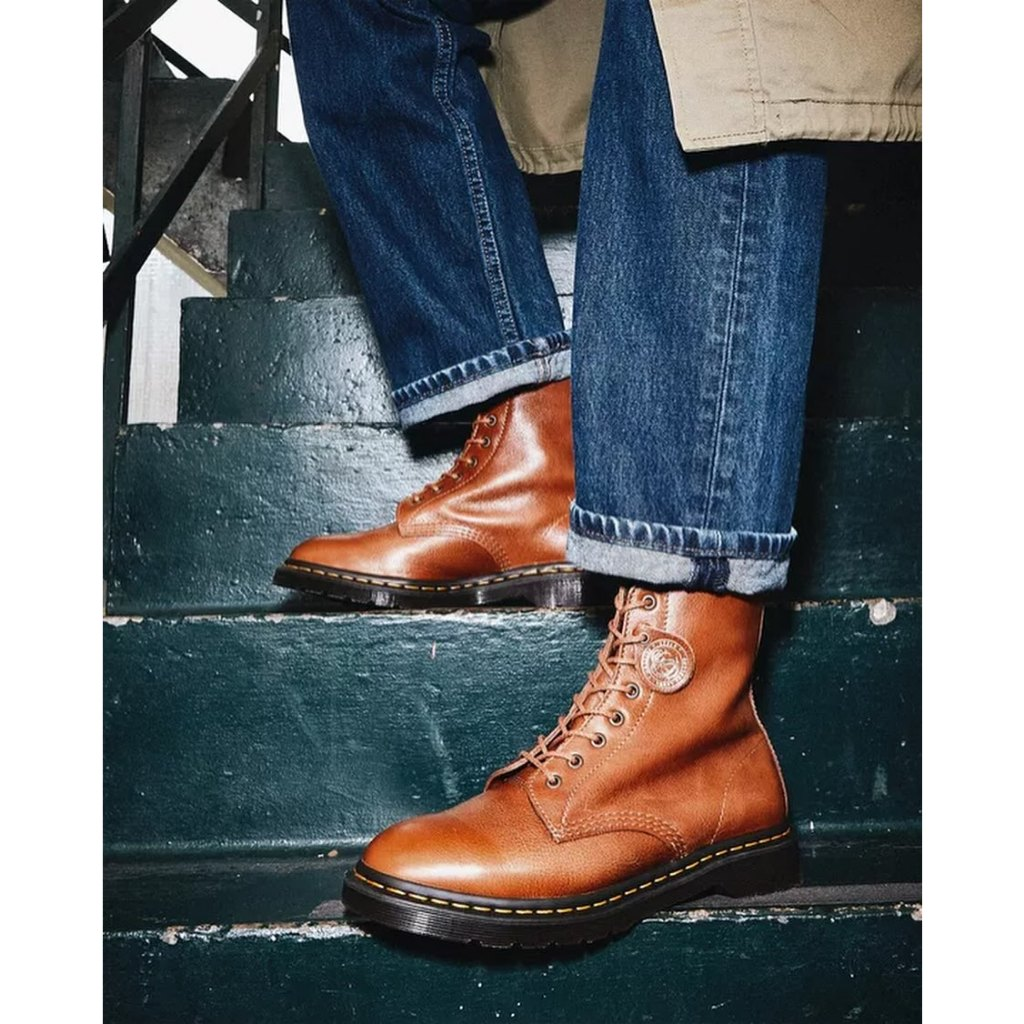boots: (343, 587, 799, 953), (266, 377, 589, 614)
